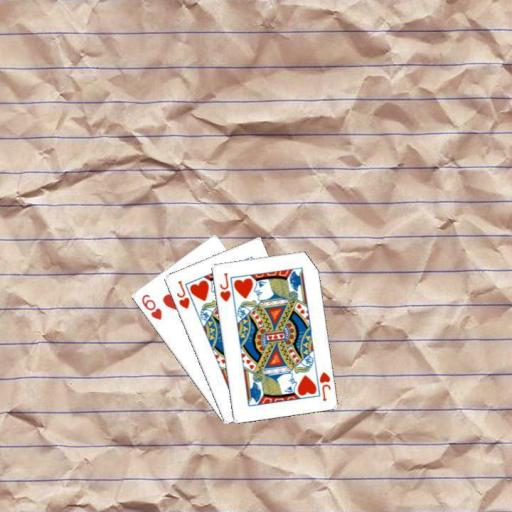card-corner: (138, 291, 163, 321), (172, 277, 190, 310), (216, 269, 232, 303), (316, 368, 331, 402)
